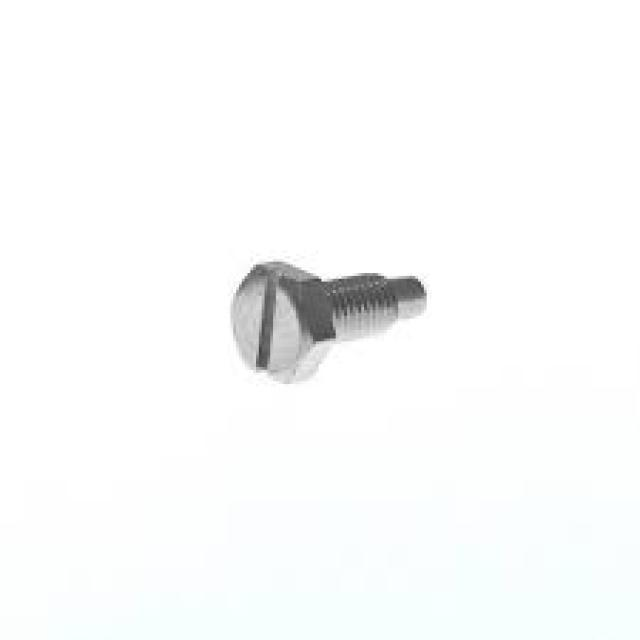duz: (226, 258, 336, 383)
